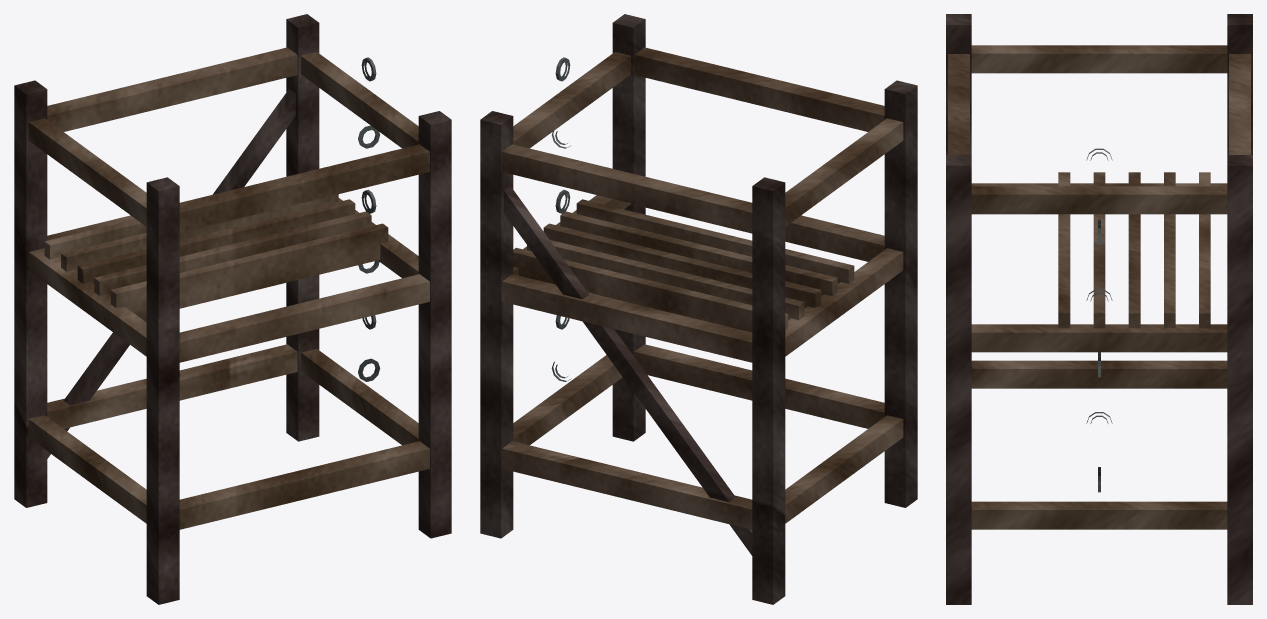
File: 0426_scaffolding_01.glb
3 views of the same model, side by side, from view 1: azimuth 30°, elevation 25°; view 2: azimuth 150°, elevation 25°; view 3: azimuth 270°, elevation 25° (orthographic). The views are drawn at different scales.
Visible parts, largest first — view 1: wood, wood_dark, iron; view 2: wood, wood_dark, iron; view 3: wood, wood_dark, iron.
Part boxes in pixels (left/top/right/bottom): wood: left=28, top=47, right=429, bottom=529; wood_dark: left=14, top=14, right=451, bottom=604; iron: left=358, top=57, right=380, bottom=381; wood: left=502, top=47, right=903, bottom=529; wood_dark: left=480, top=14, right=917, bottom=604; iron: left=551, top=57, right=571, bottom=381; wood: left=948, top=45, right=1250, bottom=529; wood_dark: left=946, top=14, right=1252, bottom=604; iron: left=1086, top=148, right=1112, bottom=492.
Bounding box in the file's own units: 1.82 × 2.52 × 1.55.
Materials: 3 (3 with a texture image).
